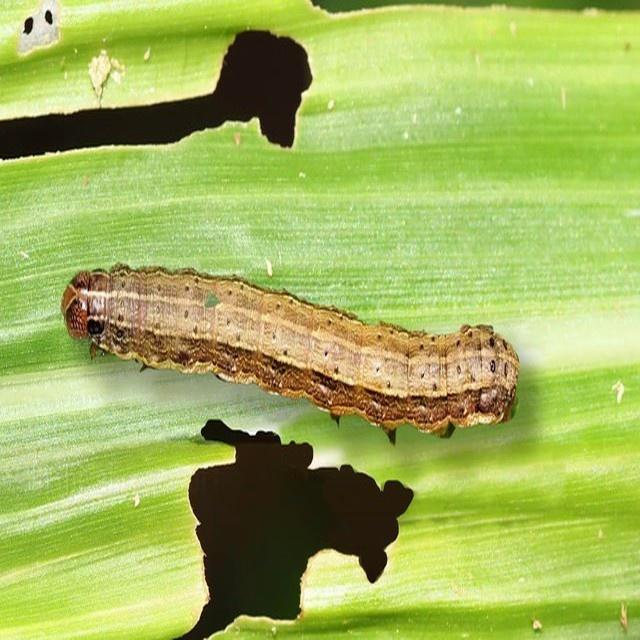Plaga: (63, 271, 523, 428)
